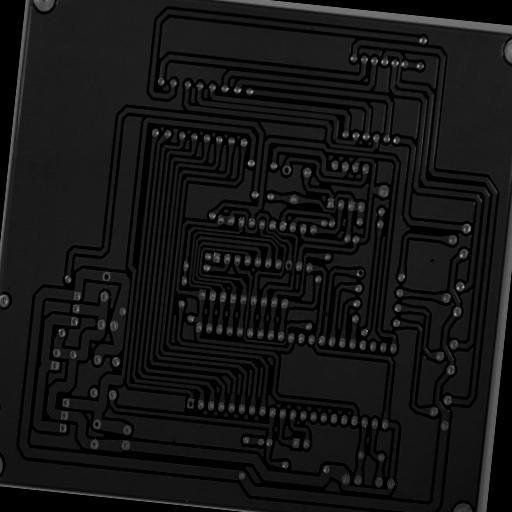missing_hole: (281, 164, 292, 177), (101, 270, 112, 283), (91, 418, 102, 431), (284, 260, 293, 272), (186, 398, 195, 410), (356, 268, 365, 278)
